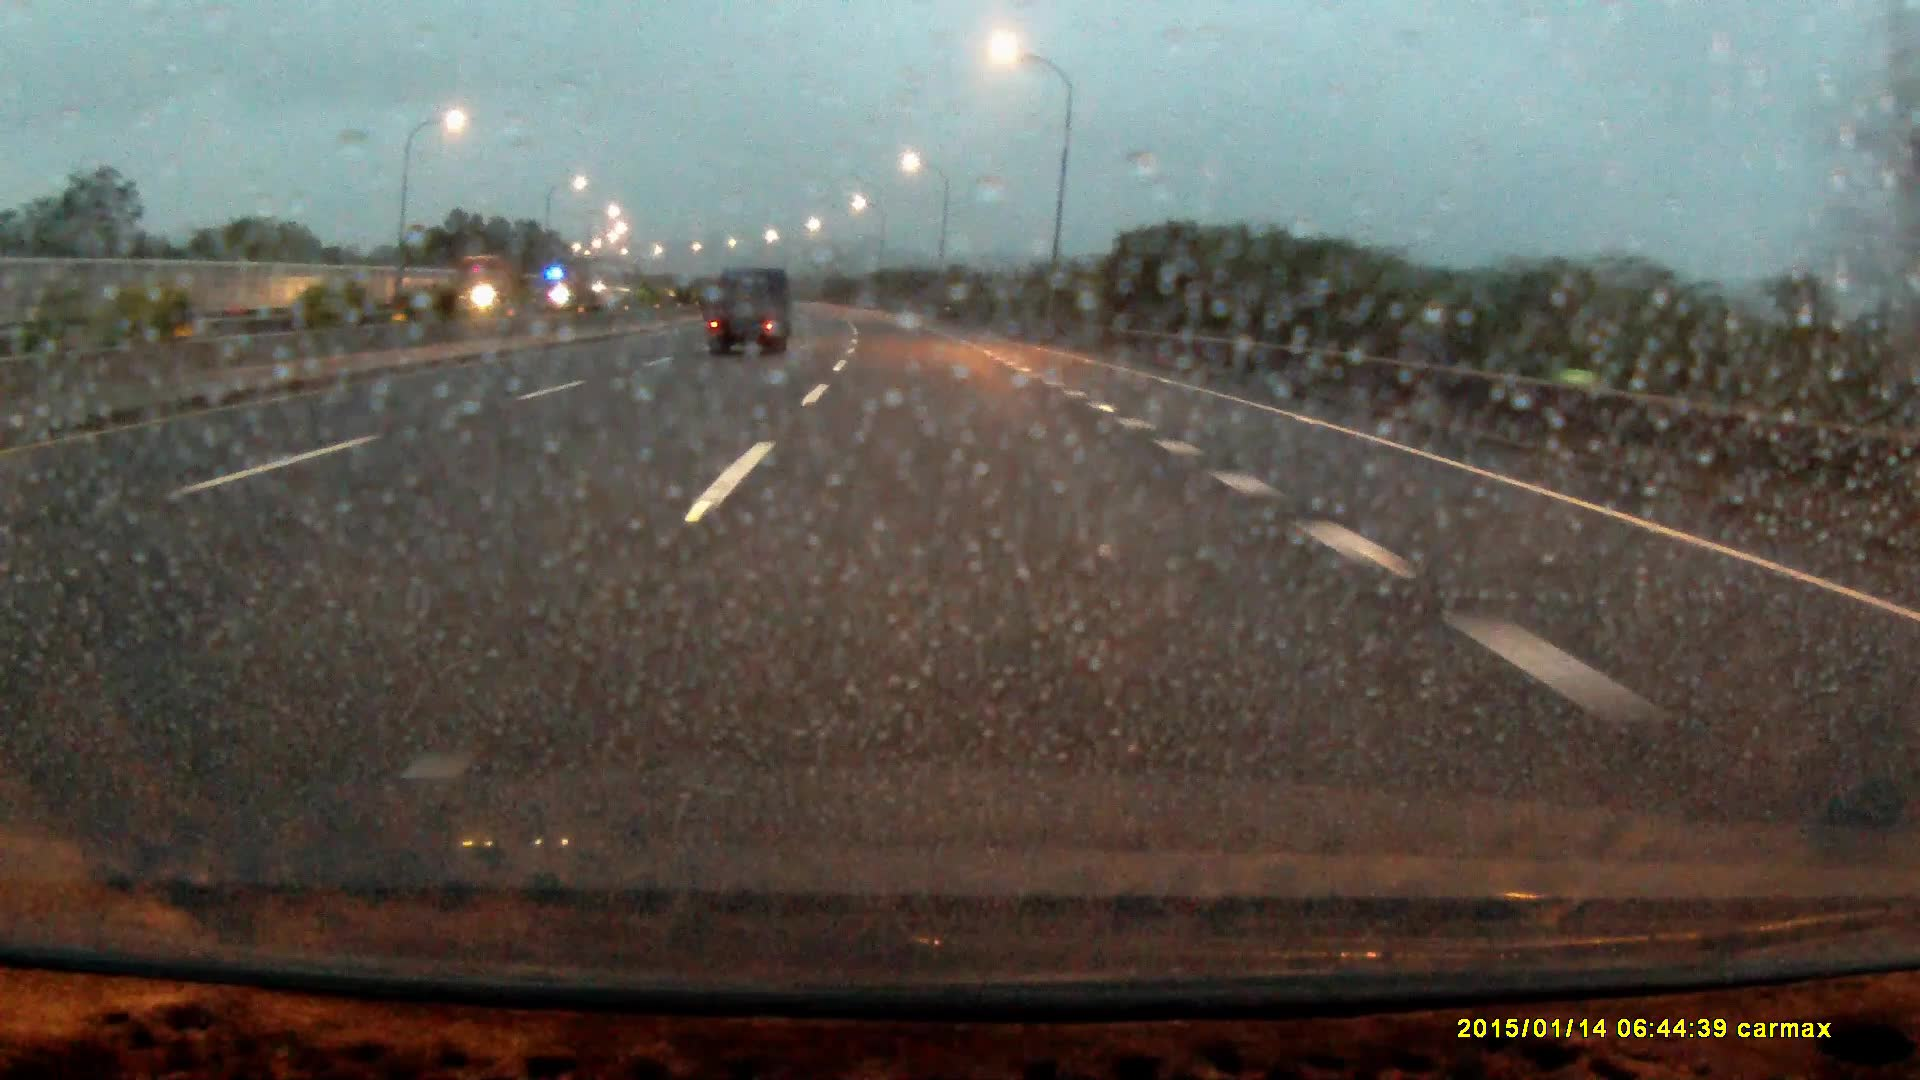vehicle: (709, 266, 789, 360), (454, 251, 527, 313)
